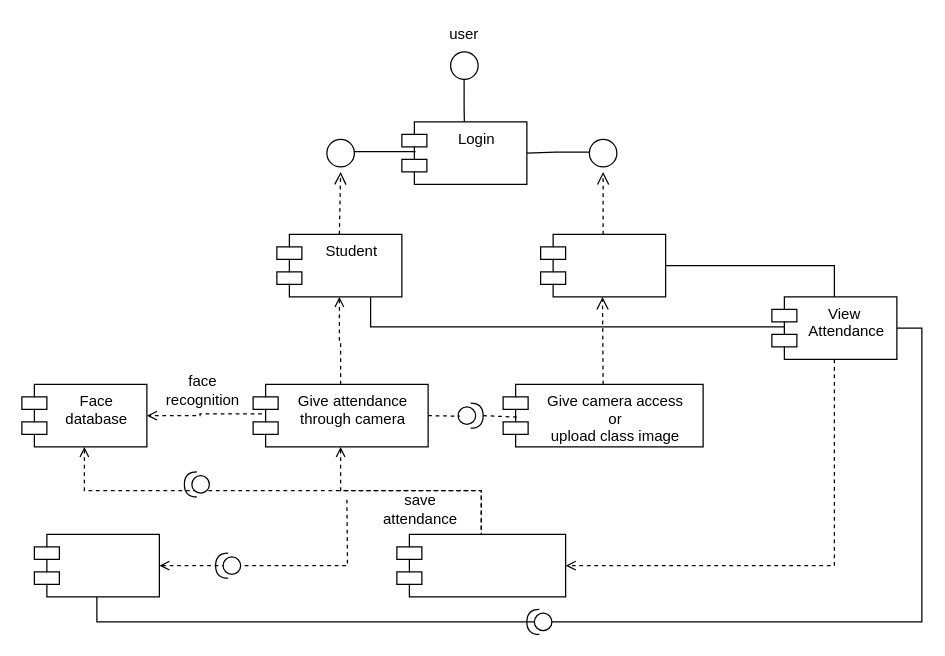
Image size: 945x656. Some labels were removed from this diagram. The shapes that lost their labels are listed below. From the top down, each one's box as (x1, y1, x2, y2) in pixels, then its label:
(539, 233, 666, 297): Faculty
(33, 533, 159, 597): Student Database
(396, 533, 566, 597): Store attendance in excel sheet
